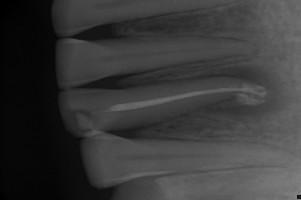Furcation Involvement: (204, 64, 290, 116)
